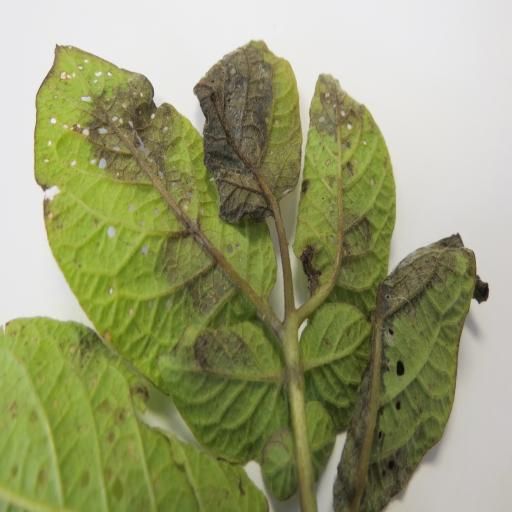Late Blight: (32, 36, 302, 478), (339, 233, 493, 512), (290, 66, 396, 320), (196, 36, 304, 232)
